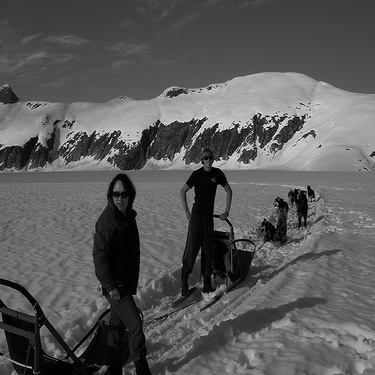dog: (254, 211, 290, 250), (285, 194, 316, 233), (260, 190, 292, 221), (277, 181, 301, 210), (297, 175, 320, 200)
